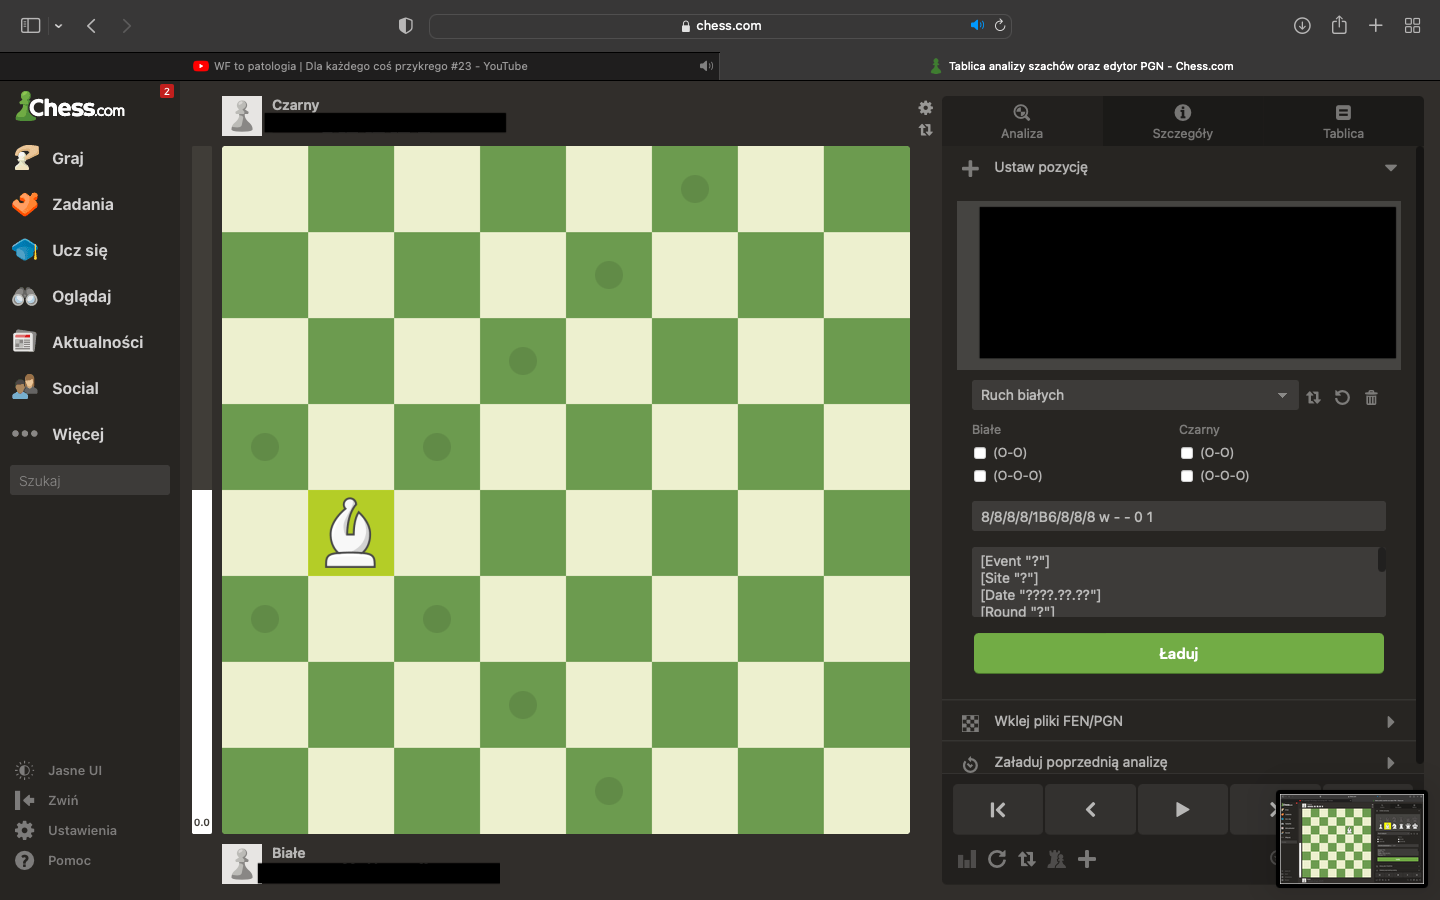white_bishop: (324, 497, 377, 569)
